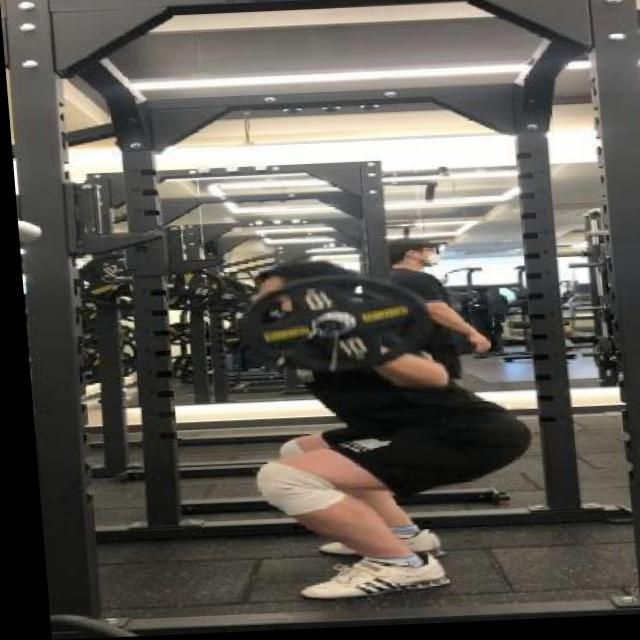barbell: (224, 272, 434, 385)
